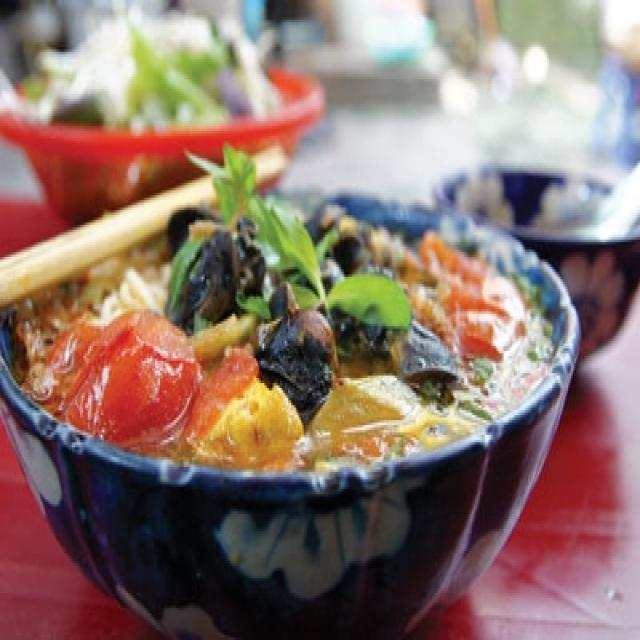面条主食: (8, 15, 610, 608)
